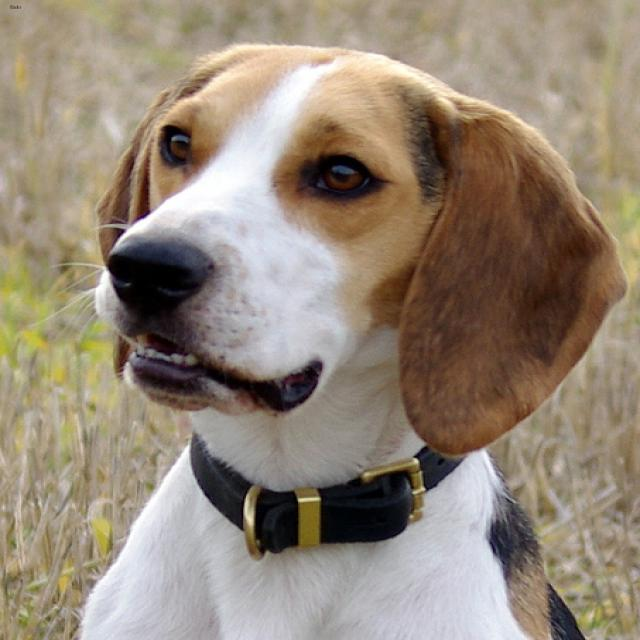dog-beagle: (10, 40, 633, 637)
